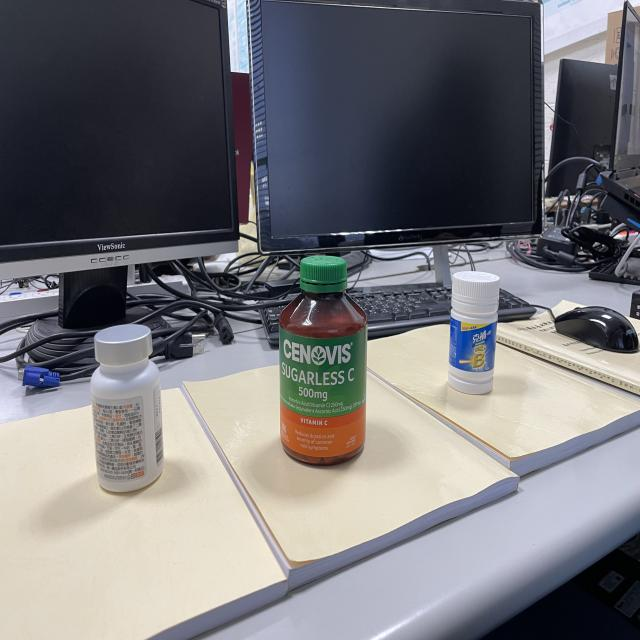Medicine-Jar: (266, 256, 378, 463), (69, 328, 175, 498), (443, 263, 505, 397)
